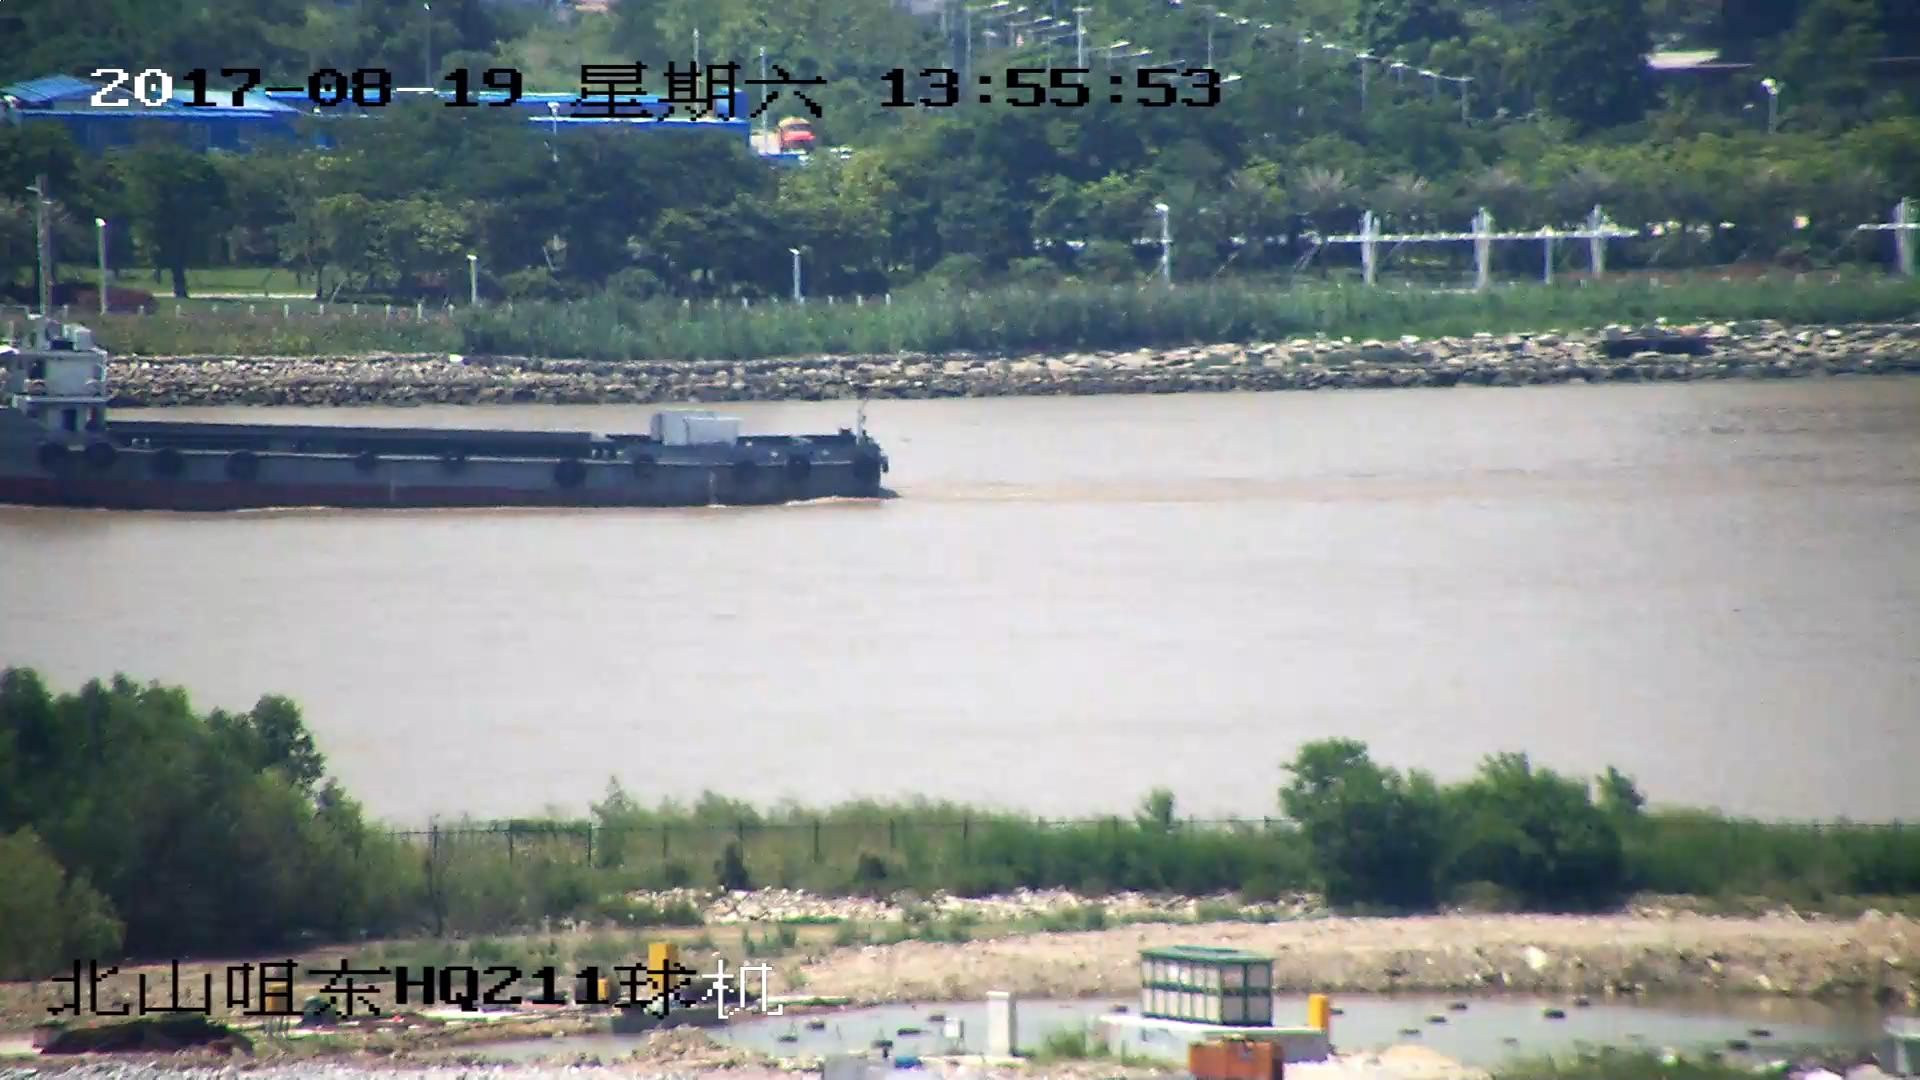general cargo ship: (1, 316, 887, 513)
